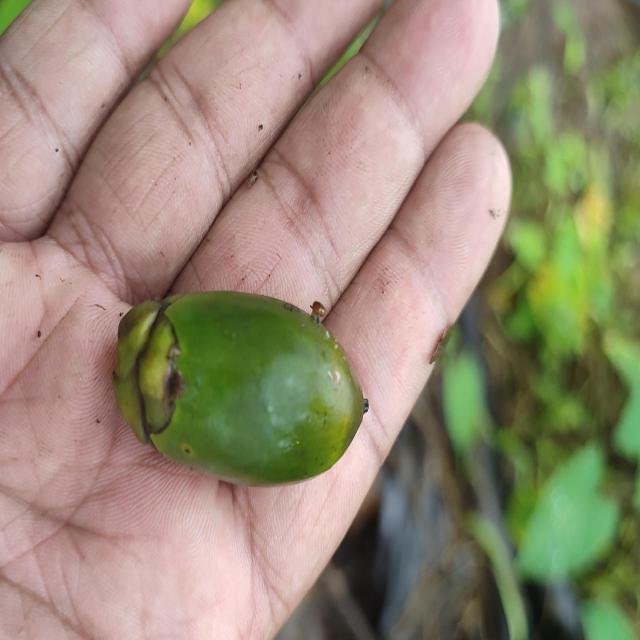good: (117, 298, 368, 486)
